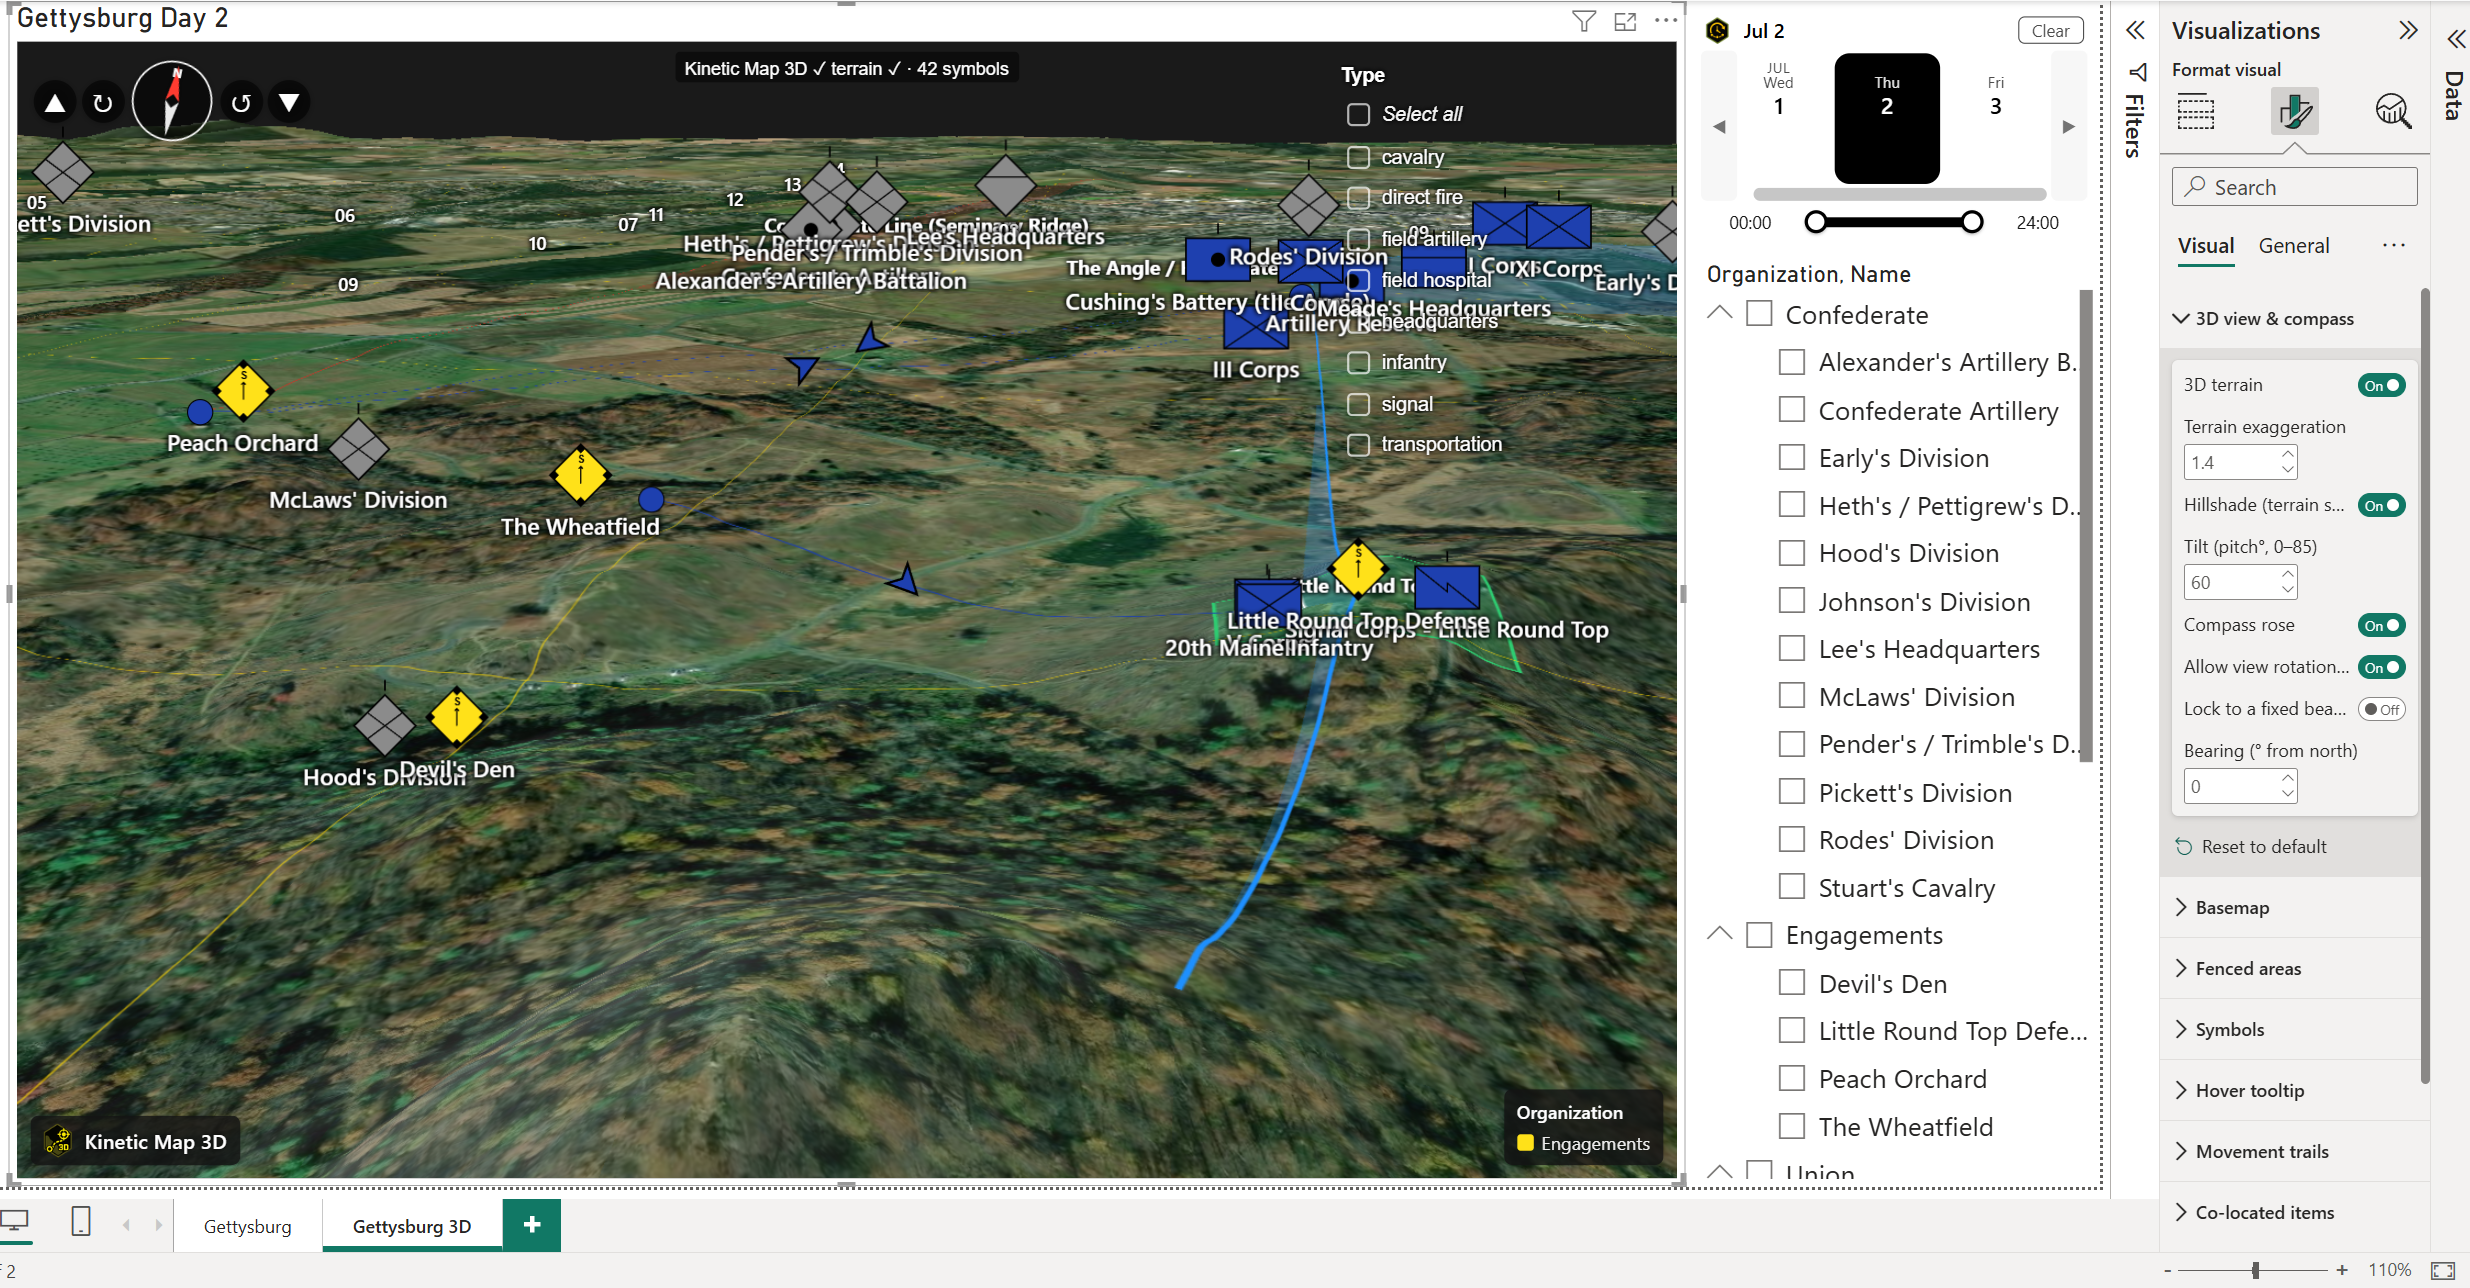

This screenshot's page, from the dashboard's own definition file:
{"tool":"powerbi","page":{"name":"Gettysburg 3D","canvas":[1280,720],"ordinal":1},"visuals":[{"type":"kineticMap3D1D3FEDDDDDED738117815DA57D56FED1","title":"Gettysburg Day 2","fields":{"entityId":["Symbols.ID"],"symbolType":["Symbols.Type"],"lat":["Symbols.Lat"],"lon":["Symbols.Lon"],"name":["Symbols.Name"],"organization":["Symbols.Organization"],"affiliation":["Symbols.Affiliation"],"color":["Symbols.Color"],"priority":["Symbols.Priority"],"date":["Symbols.Date"],"filter":["Symbols.Type"]},"box":[10.4,0,1017.4,719.6],"z":0},{"type":"kineticTimelineBCB5DB419E6C423A9F83EA884768404A","fields":{"timestamp":["Symbols.Date"]},"box":[1027.8,0,252.6,151.8],"z":1000},{"type":"slicer","fields":{"Values":["Symbols.Organization","Symbols.Name"]},"box":[1027.8,151.8,252.6,567.8],"z":2000}]}

Visuals, with their boxes on the page's 1280x720 design canvas (x1, y1, x2, y2). These are canvas units, not pixel positions in the 2470x1288 screenshot, which may show the page scaled, cropped or inside an application window:
"Gettysburg Day 2" kineticMap3D1D3FEDDDDDED738117815DA57D56FED1: 10 0 1028 720
kineticTimelineBCB5DB419E6C423A9F83EA884768404A - Symbols.Date: 1028 0 1280 152
slicer - Symbols.Organization x Symbols.Name: 1028 152 1280 720
